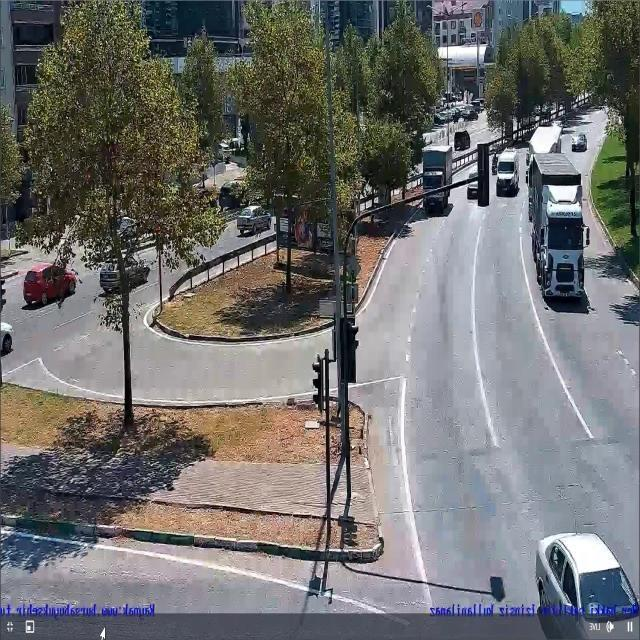Car: (536, 532, 636, 637), (23, 263, 78, 306), (99, 257, 150, 294), (235, 204, 272, 236), (458, 105, 478, 120), (571, 134, 587, 152)
Truck: (529, 154, 594, 300), (421, 143, 453, 210)
Van: (495, 149, 520, 193)
